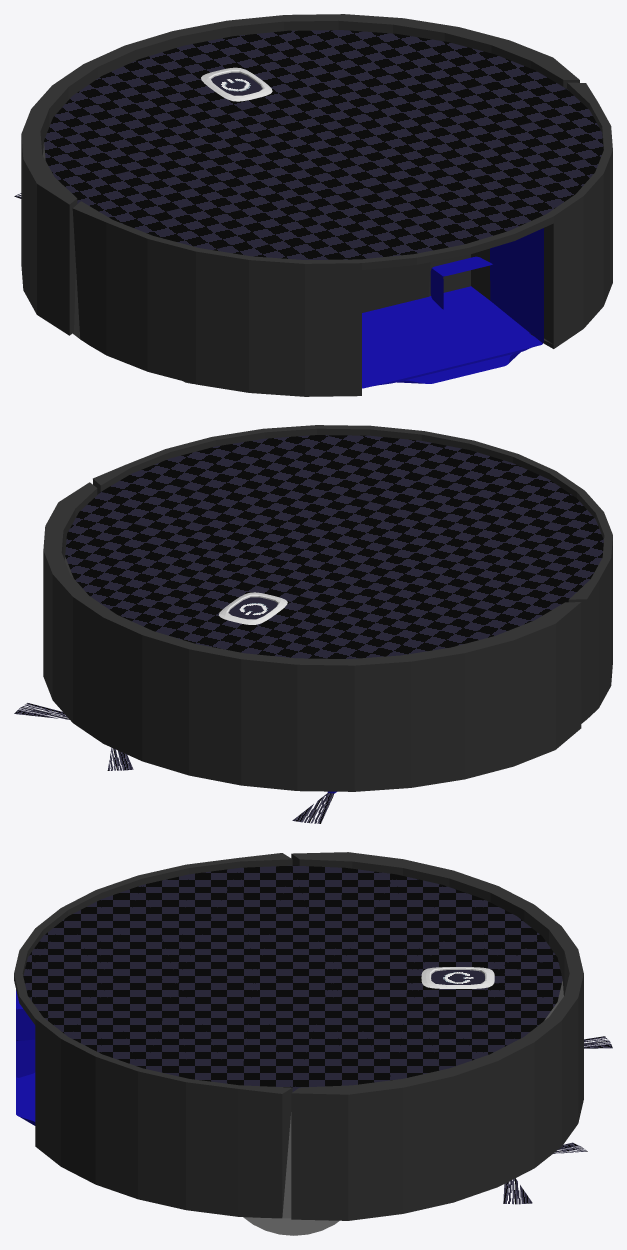
The model's file is roomba.glb.
3 renders of one model, top to bottom at view 1: azimuth 30°, elevation 25°; view 2: azimuth 150°, elevation 25°; view 3: azimuth 270°, elevation 25°, orthographic. The views are drawn at different scales.
Visible parts, largest first — view 1: Main Body, Bumper, Dust bin, Power button Ridge, P. Button Icon; view 2: Main Body, Bumper, Double Brush.001, Power button Ridge, P. Button Icon, Double Brush; view 3: Main Body, Bumper, Dust bin, Wheels, Power button Ridge, P. Button Icon, Double Brush.001.
Part boxes in pixels (x1,y1,x2,y2): Main Body: (43,30,612,396); Bumper: (21,14,579,335); Dust bin: (362,228,543,388); Power button Ridge: (201,67,272,101); P. Button Icon: (211,72,262,95); Main Body: (65,425,612,723); Bumper: (43,482,581,791); Double Brush.001: (14,703,133,770); Power button Ridge: (218,592,287,624); P. Button Icon: (228,597,277,619); Double Brush: (292,791,336,823); Main Body: (14,853,563,1218); Bumper: (291,852,583,1220); Dust bin: (16,990,35,1125); Wheels: (243,1217,339,1235); Power button Ridge: (421,967,494,988); P. Button Icon: (431,970,484,984); Double Brush.001: (503,1142,587,1204).
Bounding box in the file's own units: 4.12 × 1.54 × 4.3.
9 materials, 3 textured.
